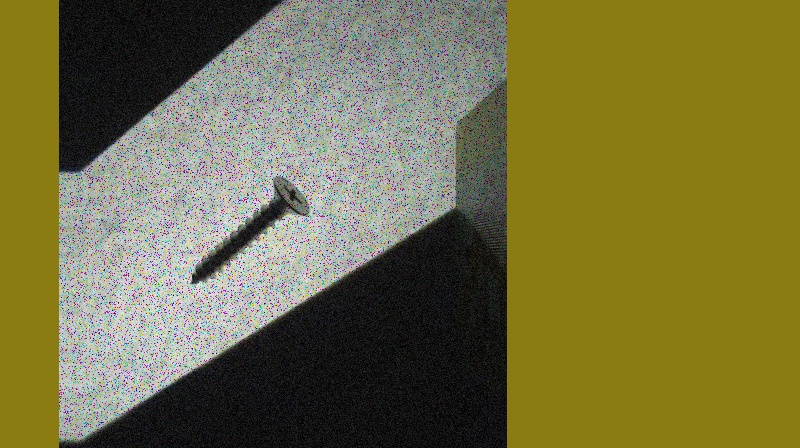S001: (189, 174, 314, 287)
